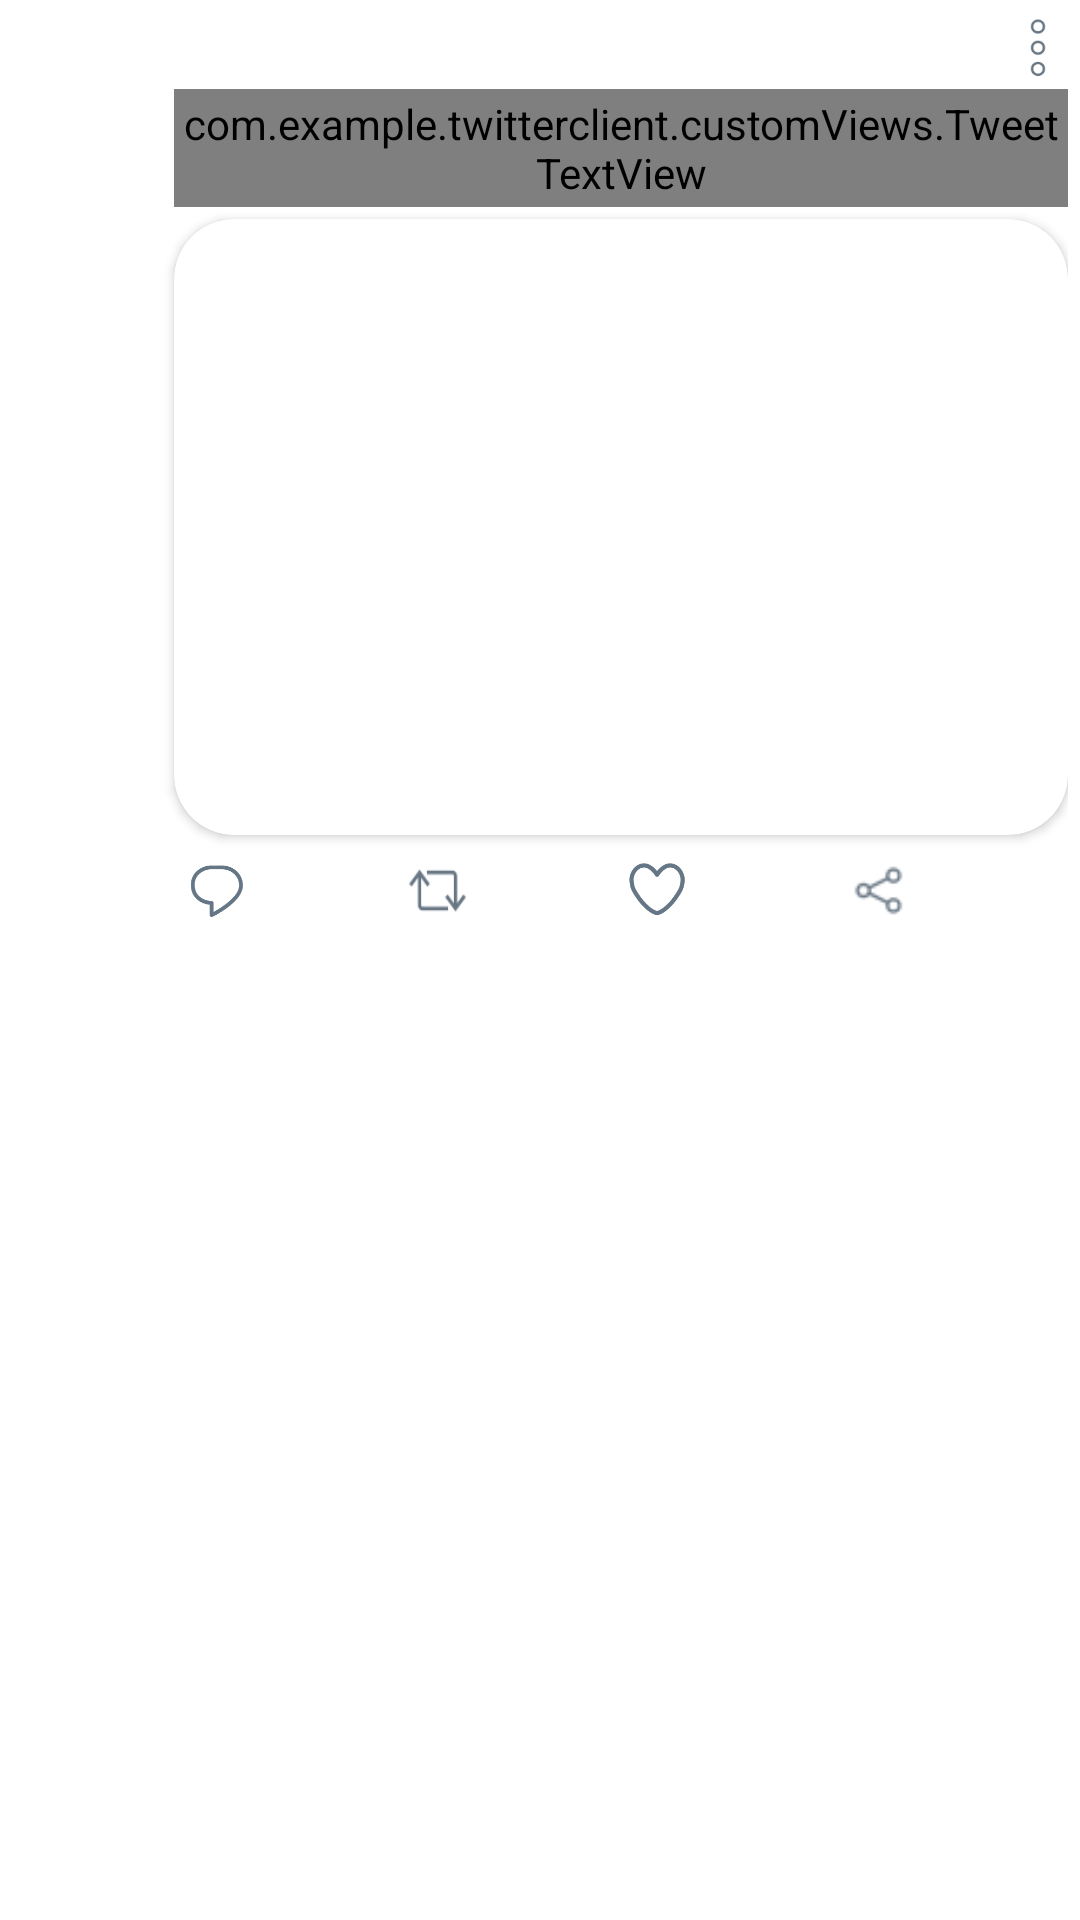

Icons on this 1080w x 1920h Android screen, each with the point to tap as (x,y):
like: (657,889)
options: (1038,47)
reply: (217,891)
share: (878,890)
